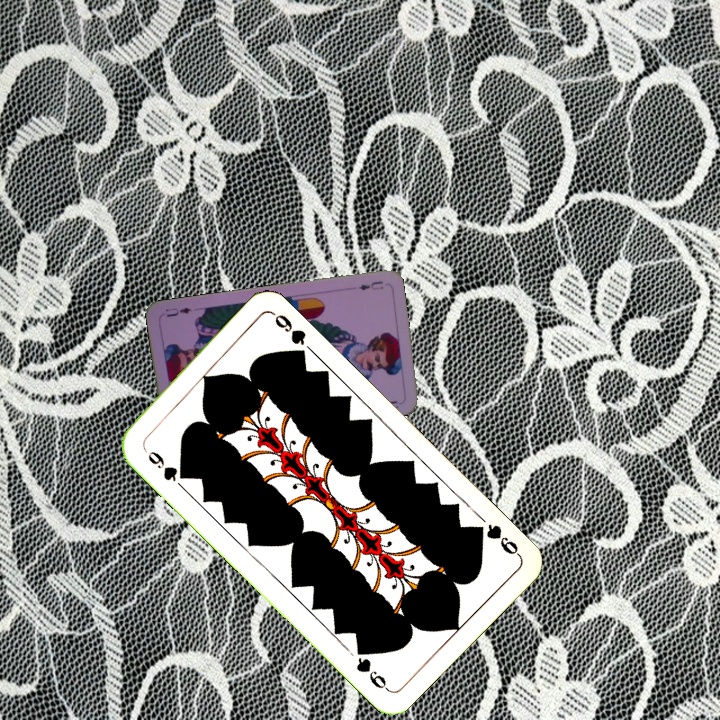EU: (355, 277, 386, 293)
G9: (468, 519, 523, 559), (138, 442, 190, 484)
